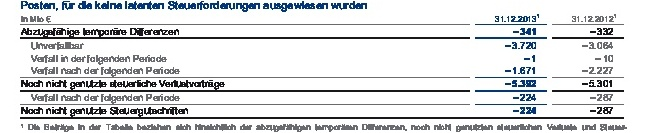table: (0, 0, 646, 133)
